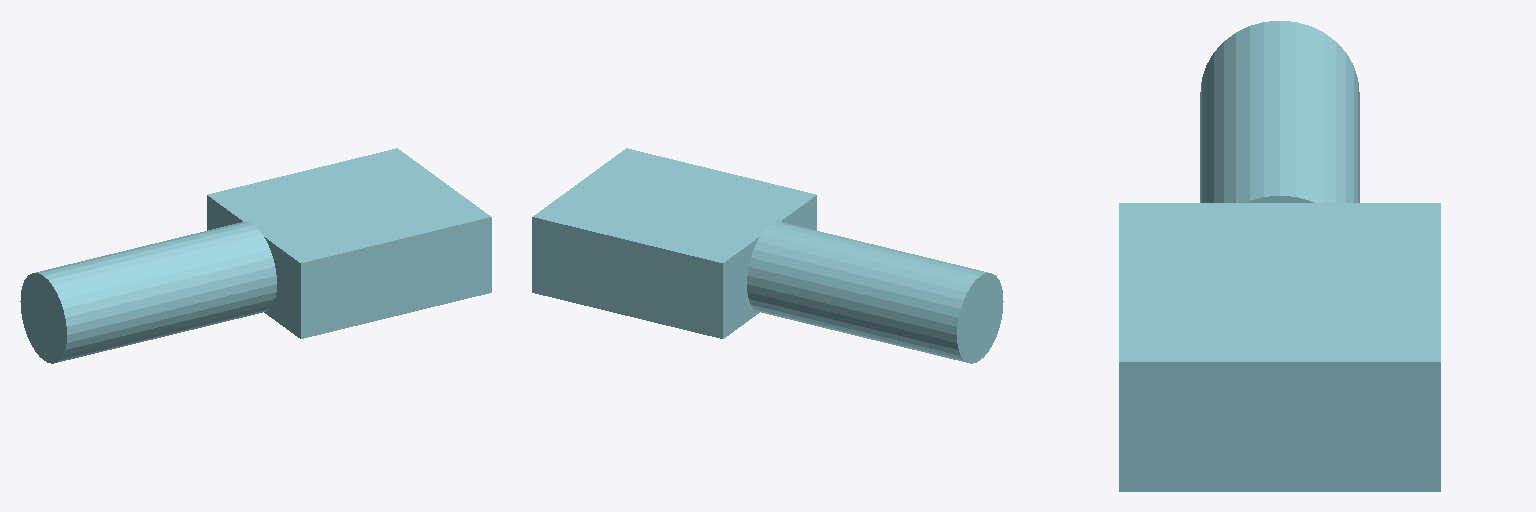
robot.urdf — cylinder_brush_v11012:
<?xml version="1.0"?>
<robot name="cylinder_brush_v11012">

  <link name="cylinder_brush_v11012">
    <!-- Handle -->
    <visual>
      <origin xyz="0 0 0" rpy="0 1.5707963267948966 0"/>
      <geometry>
        <cylinder length="0.1104710306178623" radius="0.021236378601259986"/>
      </geometry>
      <material name="material">
        <color rgba="0.639 0.847 0.882 1.0"/>
      </material>
    </visual>
    <collision>
      <origin xyz="0 0 0" rpy="0 1.5707963267948966 0"/>
      <geometry>
        <cylinder length="0.1104710306178623" radius="0.021236378601259986"/>
      </geometry>
    </collision>

    <!-- Head -->
    <visual>
      <origin xyz="0.10542790403468527 0 0" rpy="0 0 0"/>
      <geometry>
        <box size="0.10038477745150823 0.0856253906225948 0.038141726538190174"/>
      </geometry>
      <material name="material">
        <color rgba="0.639 0.847 0.882 1.0"/>
      </material>
    </visual>
    <collision>
      <origin xyz="0.10542790403468527 0 0" rpy="0 0 0"/>
      <geometry>
        <box size="0.10038477745150823 0.0856253906225948 0.038141726538190174"/>
      </geometry>
    </collision>

    <inertial>
      <density value="400.0"/>
    </inertial>
  </link>

</robot>

--- Render facts (derived) ---
Views: 3 orthographic renders of the robot side by side, from view 1: azimuth 30°, elevation 25°; view 2: azimuth 150°, elevation 25°; view 3: azimuth 270°, elevation 25°.
Robot: cylinder_brush_v11012 — 1 links, 0 joints (none); root link cylinder_brush_v11012; default pose: every joint at zero.
Visible links, largest first — view 1: cylinder_brush_v11012; view 2: cylinder_brush_v11012; view 3: cylinder_brush_v11012.
Link boxes in pixels (x1,y1,x2,y2): cylinder_brush_v11012: (20,148,491,363); cylinder_brush_v11012: (532,148,1003,363); cylinder_brush_v11012: (1119,21,1440,491).
Size in the robot's own frame: 0.2109 by 0.0856 by 0.0425 metres.
Geometry: primitives only (box / cylinder / sphere), no mesh files.
